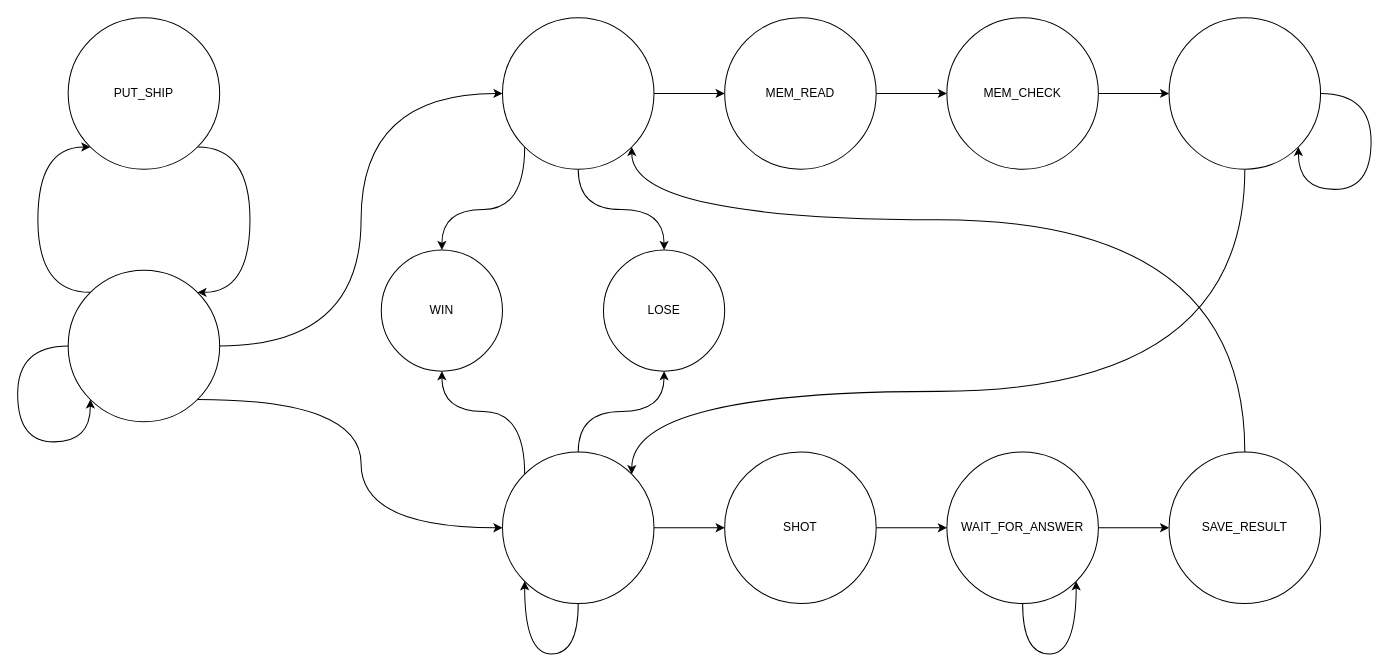
Image size: 1389x672. Some labels were removed from this diagram. Here are the shapes that lost their labels. From the top down, the centre of each, then its label:
At (x=577, y=93): "WAIT_FOR_ENEMY".
At (x=1244, y=93): "COMPARE_AND_SAVE".
At (x=143, y=345): "WAIT_FOR_BEGIN".
At (x=577, y=527): "WAIT_FOR_SHOT".
